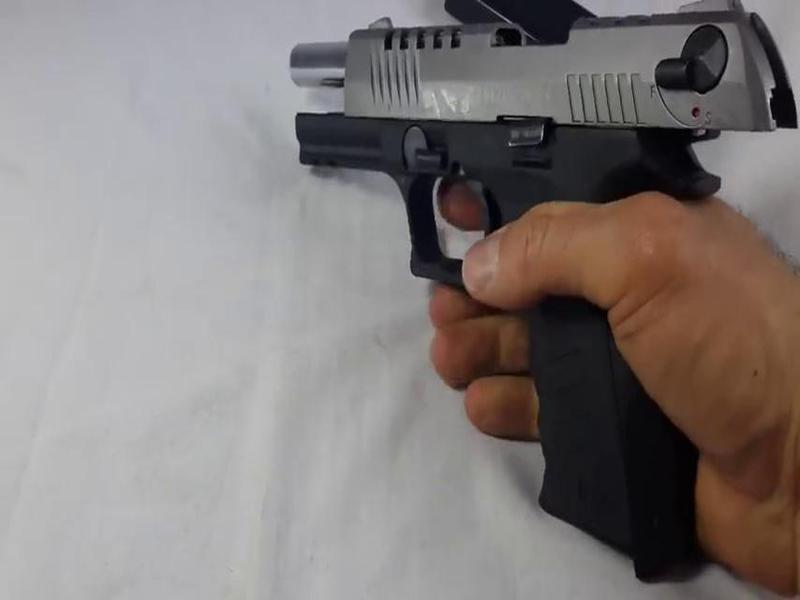Pistola: (254, 1, 795, 538)
